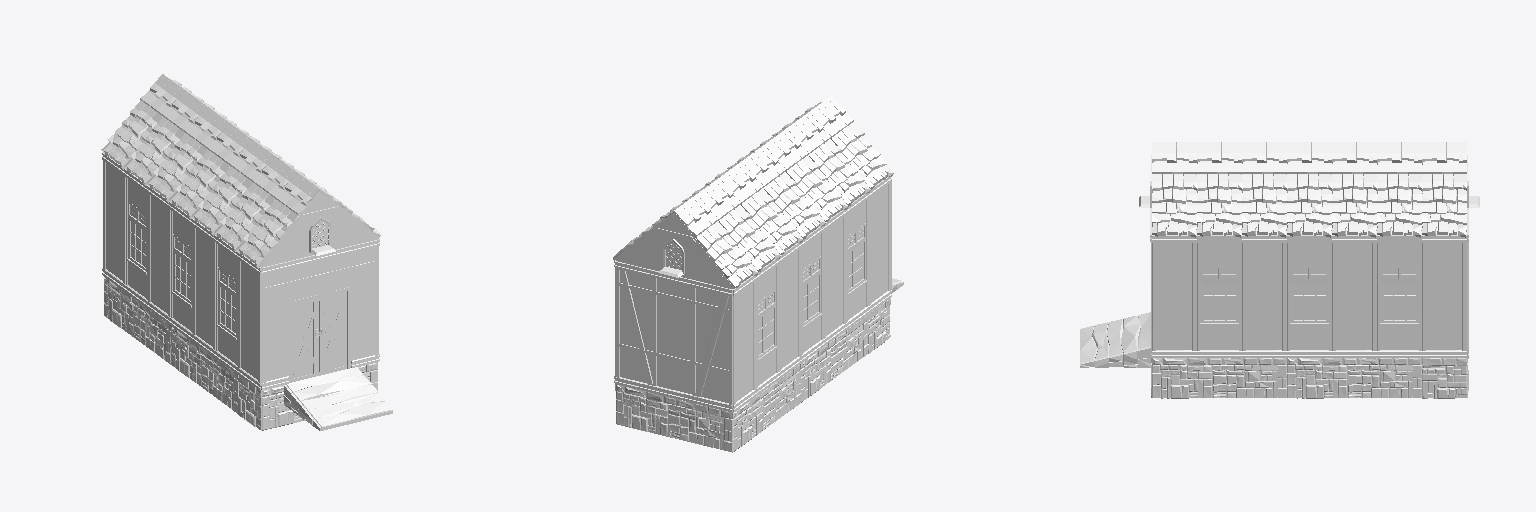
Rendered from house_04.obj.
3 views of the same model, side by side, from view 1: azimuth 30°, elevation 25°; view 2: azimuth 150°, elevation 25°; view 3: azimuth 270°, elevation 25° (orthographic).
Bounding box in the file's own units: 3.2 × 5.59 × 8.88.